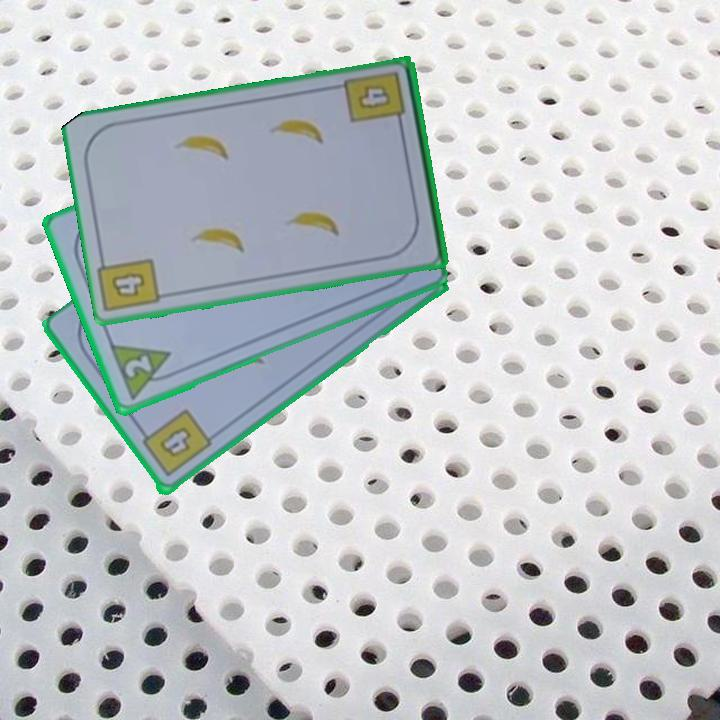2p: (105, 341, 181, 404)
4b: (135, 406, 214, 481), (342, 68, 409, 133), (107, 269, 148, 301)
